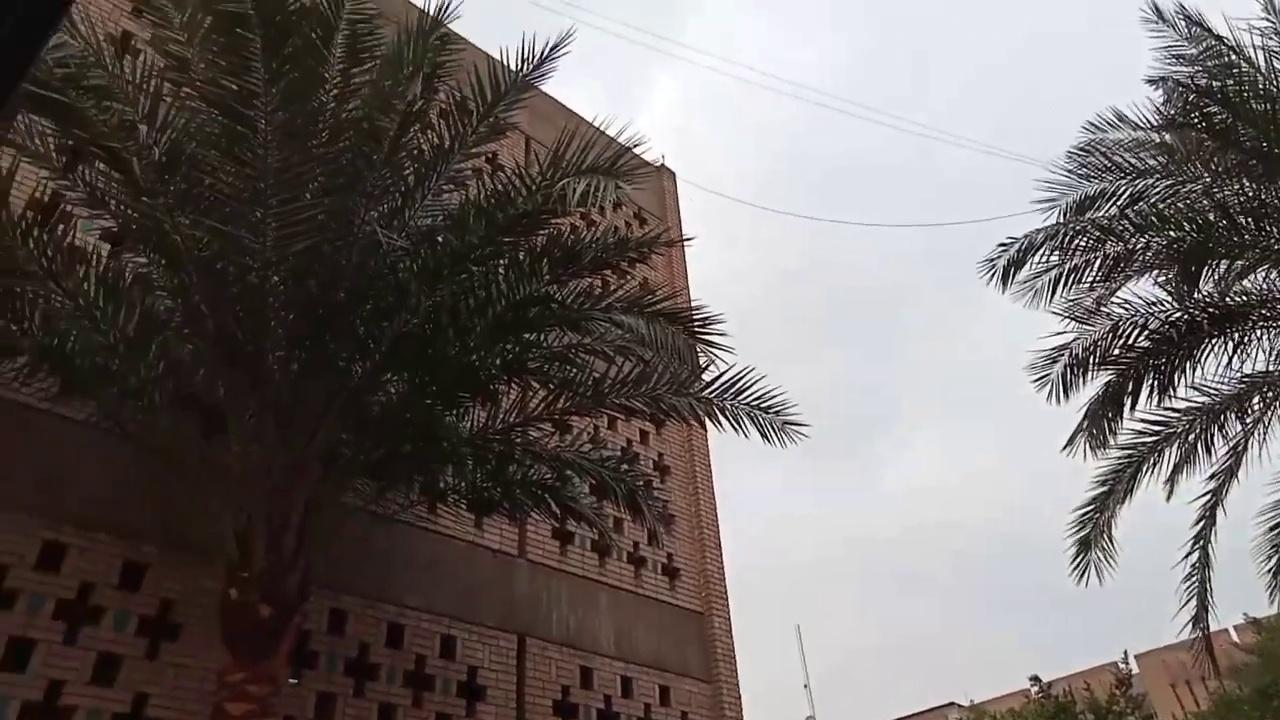tree: (0, 0, 811, 672), (975, 0, 1278, 695)
